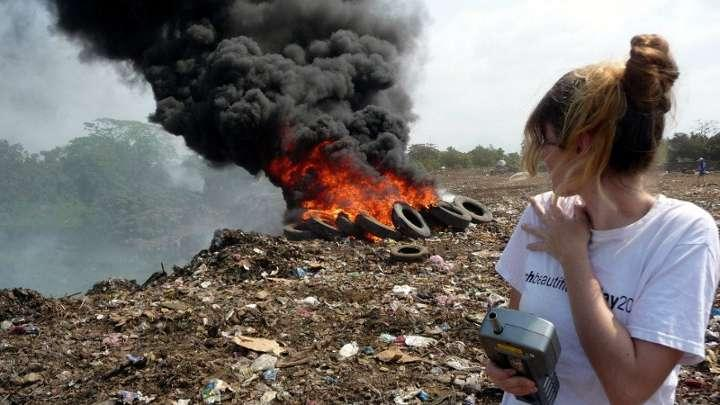trash: (0, 177, 541, 404), (356, 212, 401, 240)
